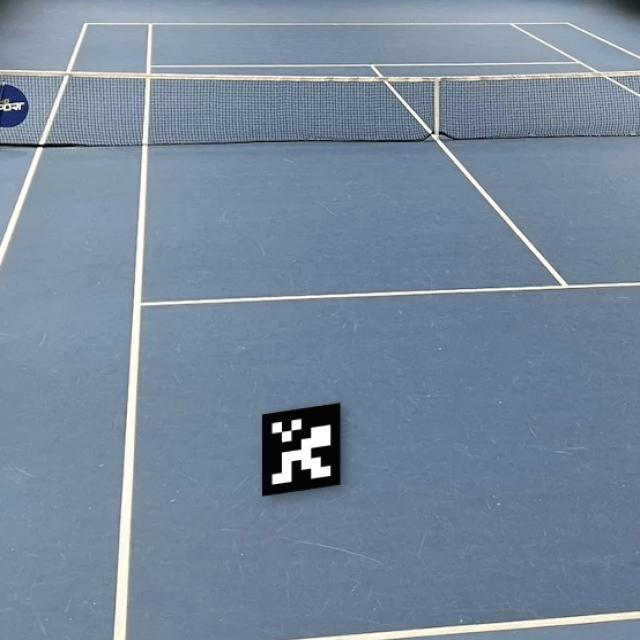marker: (254, 394, 359, 501)
